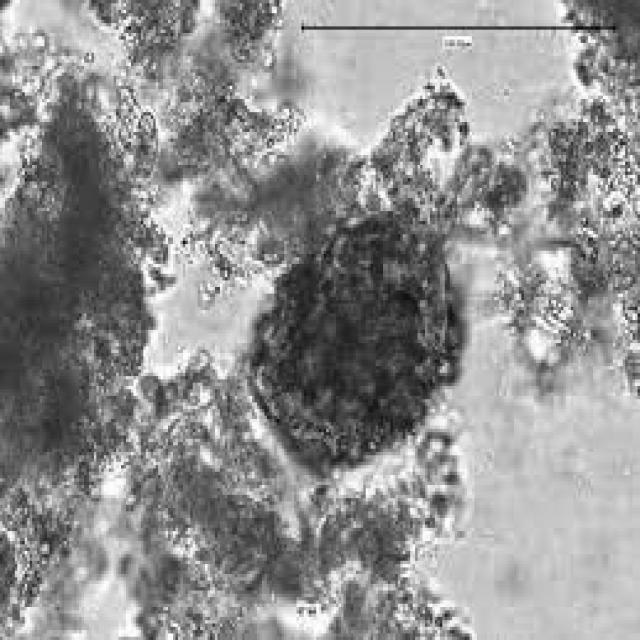Ascaris Lumbricoides: (250, 214, 474, 475)
